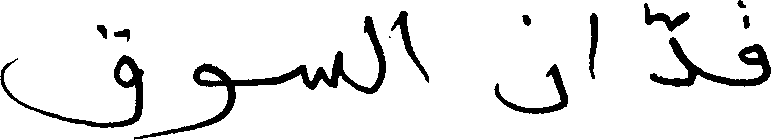ا: (397, 9, 429, 83), (587, 11, 598, 79)
د: (649, 7, 698, 87)
س: (299, 49, 342, 91)
ف: (736, 14, 769, 87)
ق: (0, 22, 143, 137)
ل: (362, 14, 385, 94)
ن: (493, 13, 568, 114)
و: (191, 60, 237, 130)
